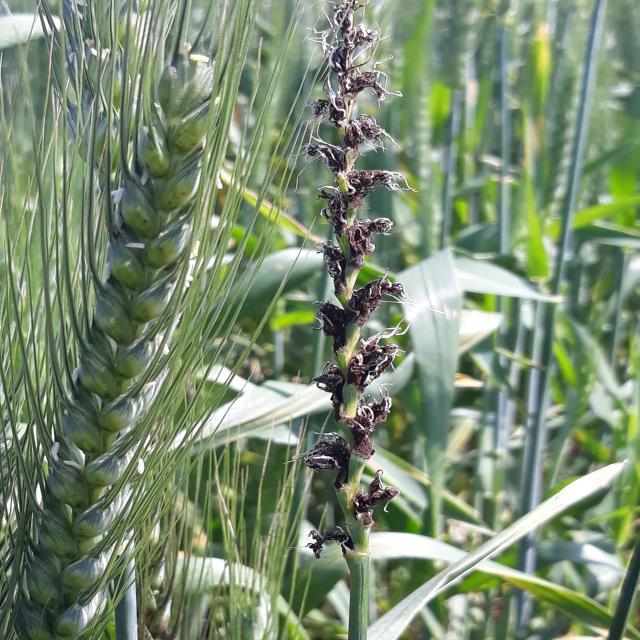loose_charred: (281, 0, 424, 606)
